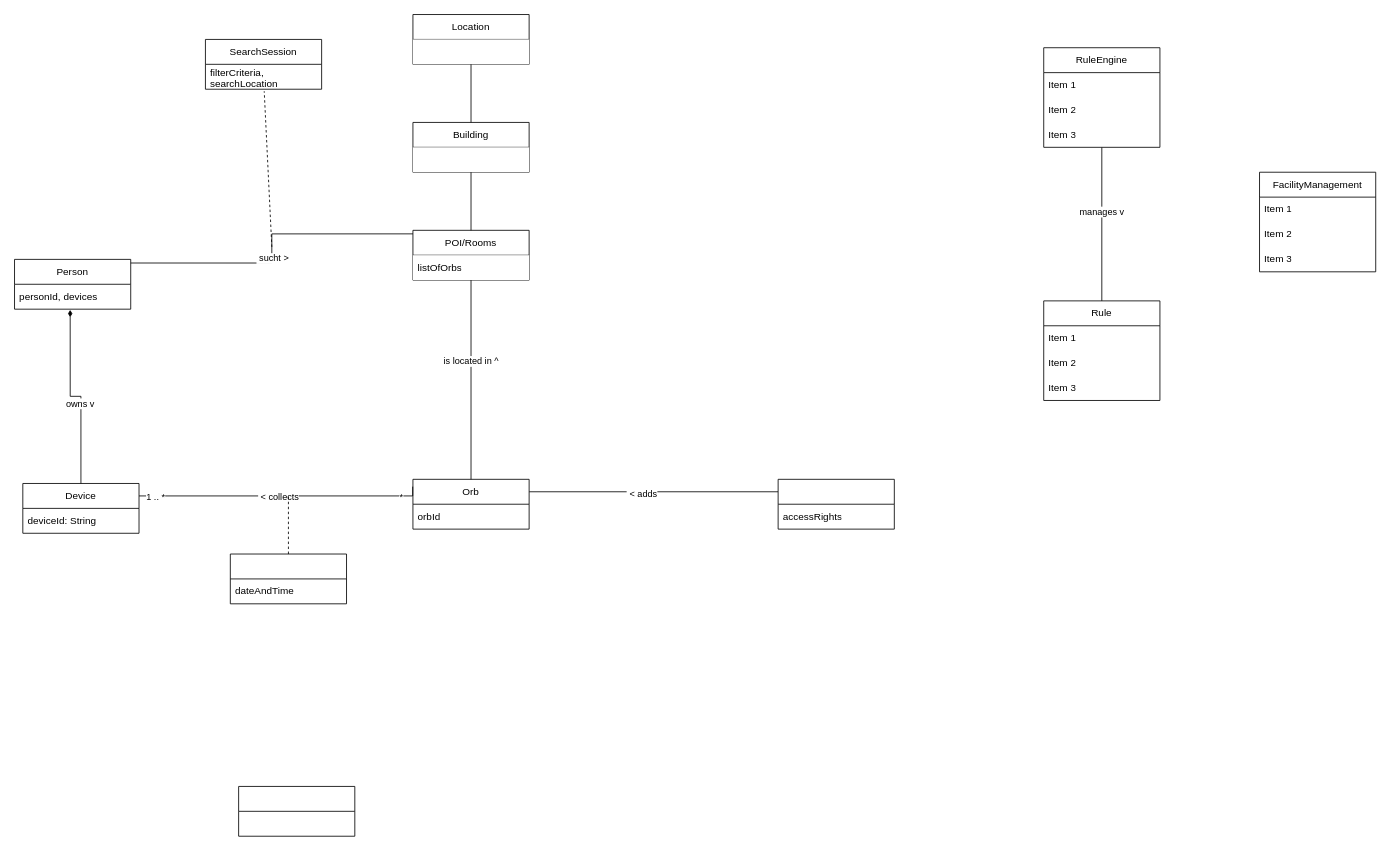
The diagram is 1390 pixels wide and 851 high, and some of its shapes have lost their labels. Each missing label, with the box of its shape:
buildings: (413, 39, 529, 64)
ManagementUser: (777, 478, 894, 529)
pointsOfInterest: (413, 147, 529, 172)
RoomFinder: (238, 786, 355, 836)
Wireless-Protocol: (229, 553, 347, 604)
